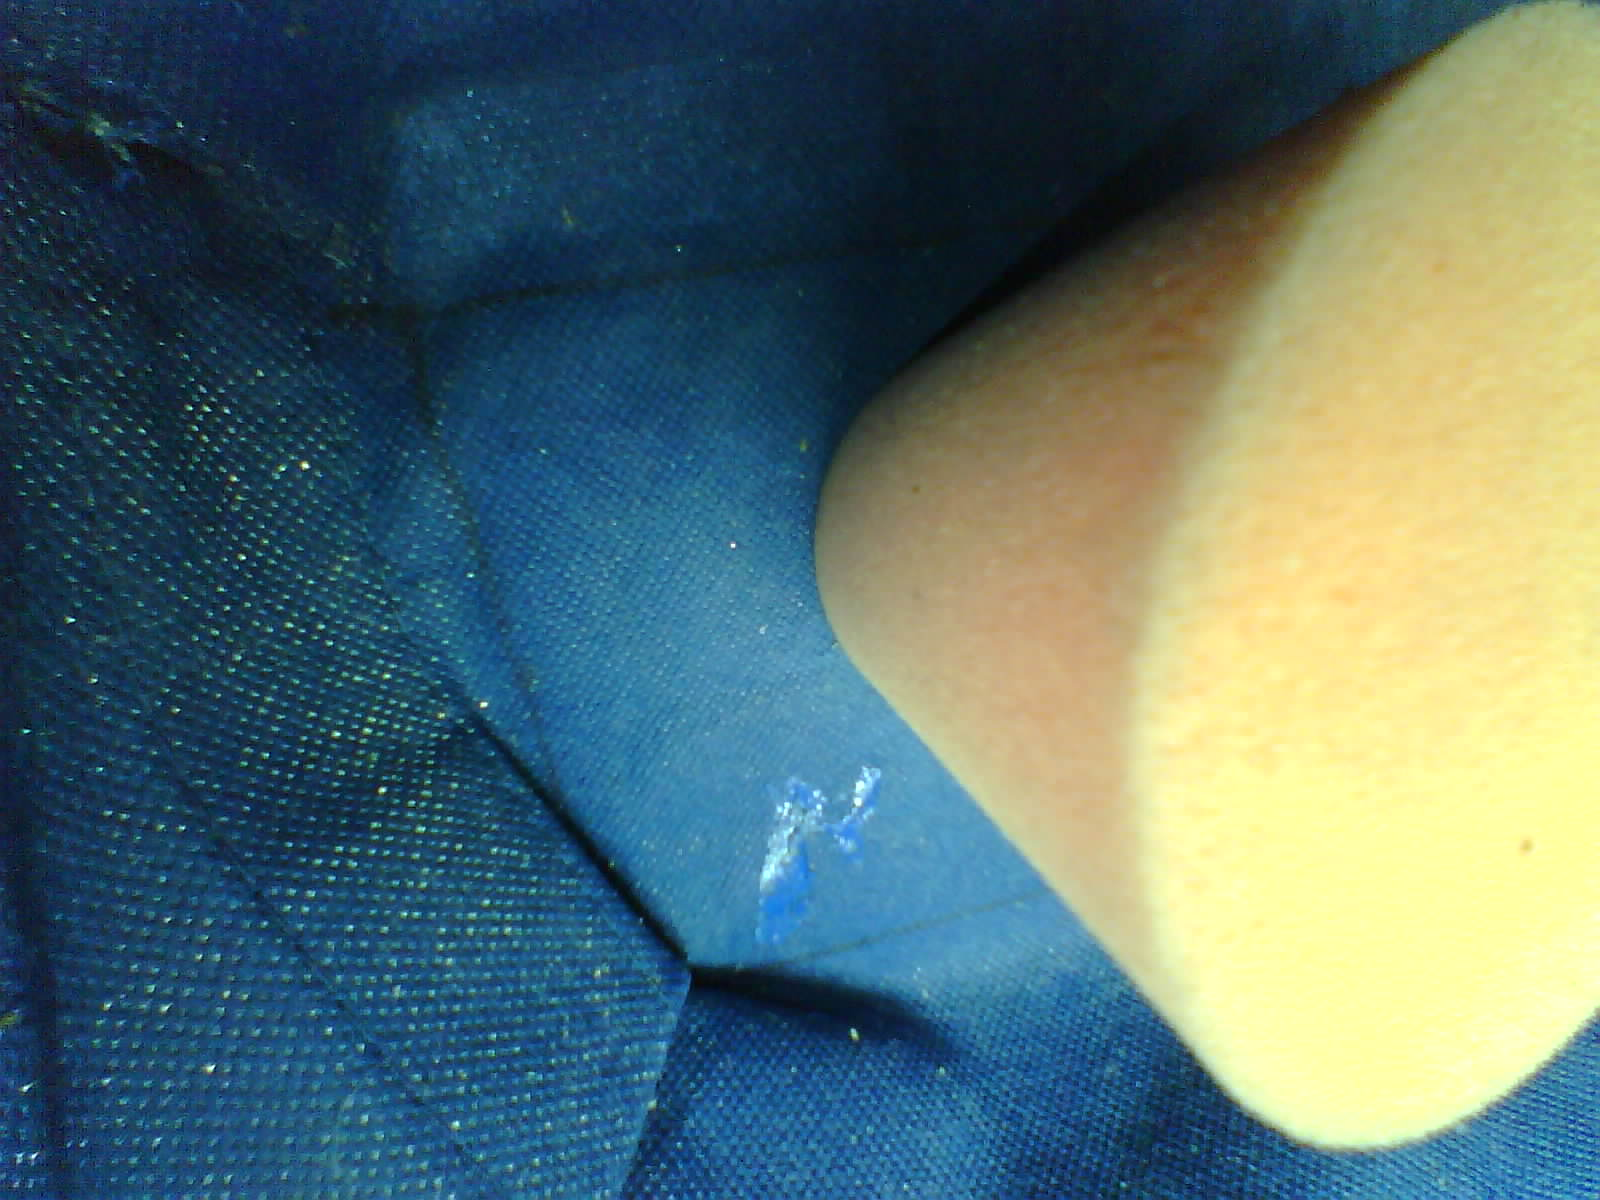cylinder-soft: (797, 0, 1600, 1162)
